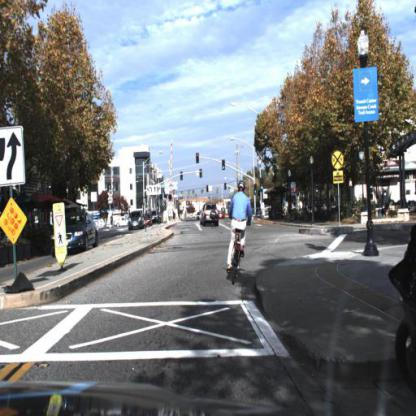biker: (227, 176, 250, 287)
car: (50, 208, 103, 257), (202, 201, 219, 229), (125, 211, 144, 232)
trafficLight-Green: (221, 155, 229, 171)
trafficLight-Red: (195, 150, 200, 166)
